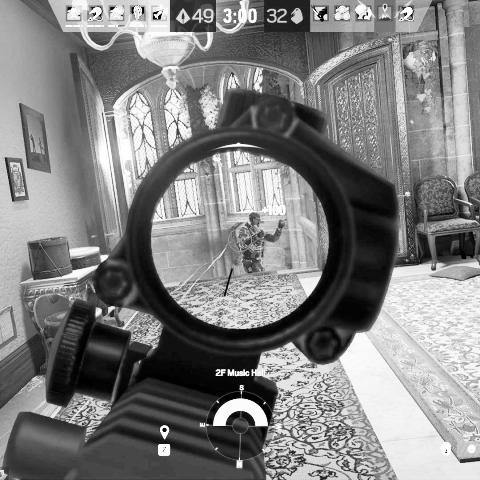Character: (229, 209, 287, 276)
Head: (247, 211, 263, 228)
